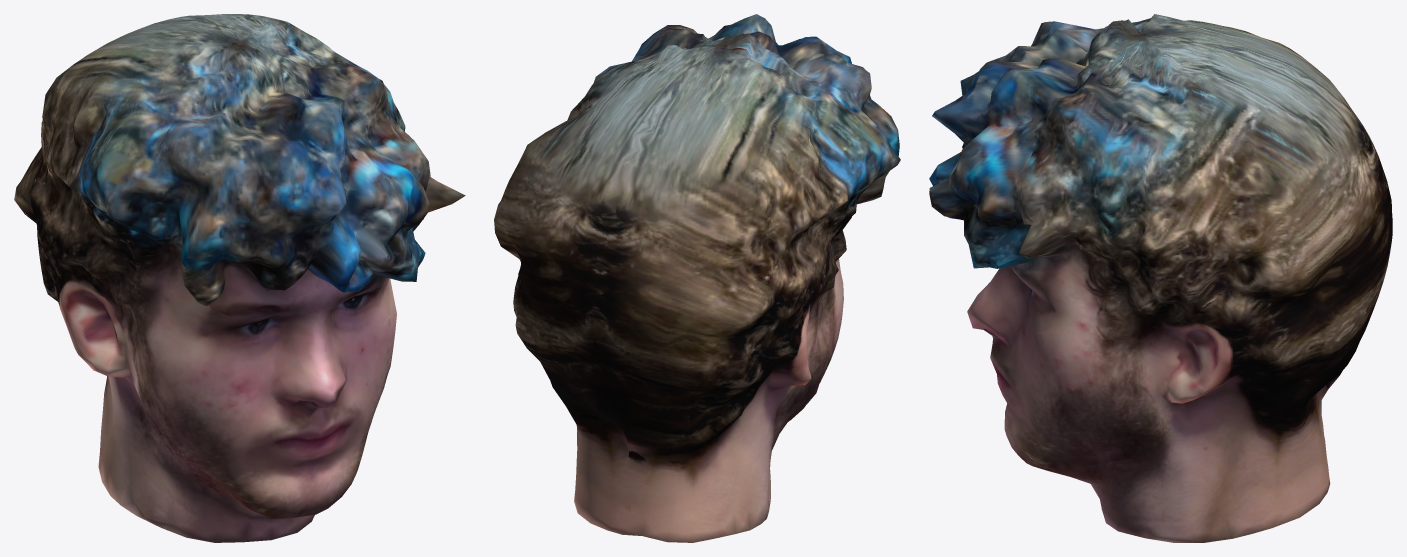
Rendered from JmanHead.fbx.
The picture shows the model from 3 angles, left to right: view 1: azimuth 30°, elevation 25°; view 2: azimuth 150°, elevation 25°; view 3: azimuth 270°, elevation 25°; orthographic projection. The views are drawn at different scales.
Parts seen in each view (by area): view 1: GameObject; view 2: GameObject; view 3: GameObject.
Part boxes in pixels (x1=…): GameObject: x1=14, y1=14, x2=465, y2=542; GameObject: x1=494, y1=14, x2=900, y2=542; GameObject: x1=929, y1=14, x2=1392, y2=542.
Bounding box in the file's own units: 172 × 237 × 210.
